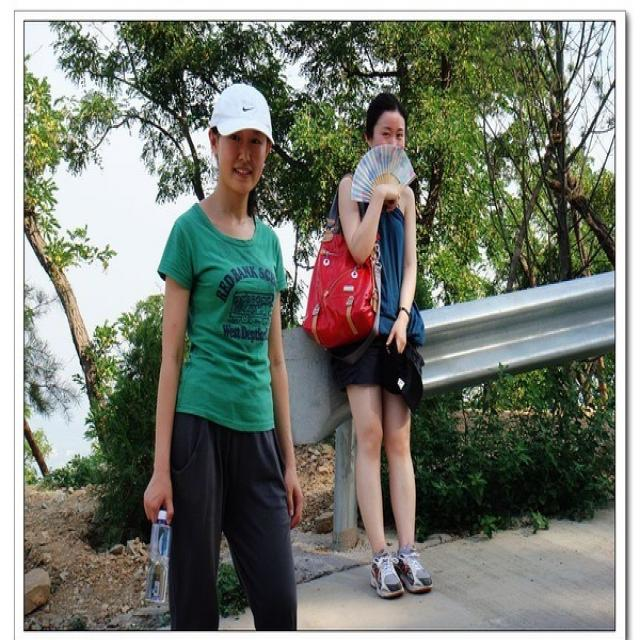nomask: (215, 121, 267, 191), (376, 111, 406, 160)
